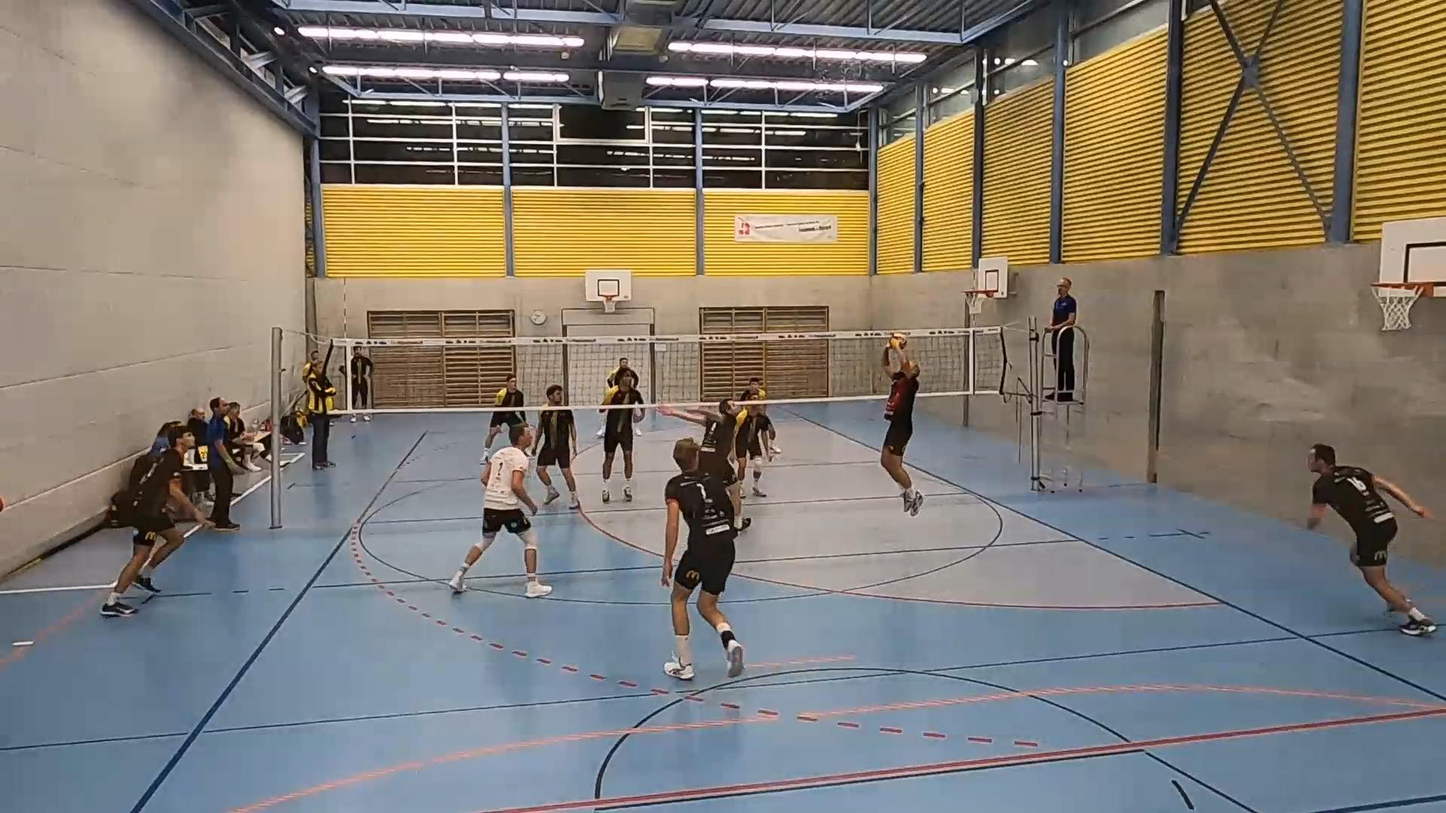alzata: (873, 342, 925, 515)
